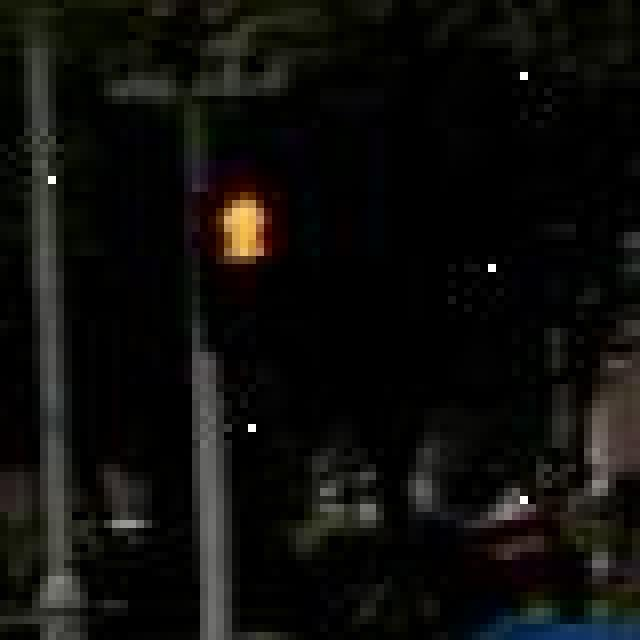redlight: (176, 164, 297, 349)
